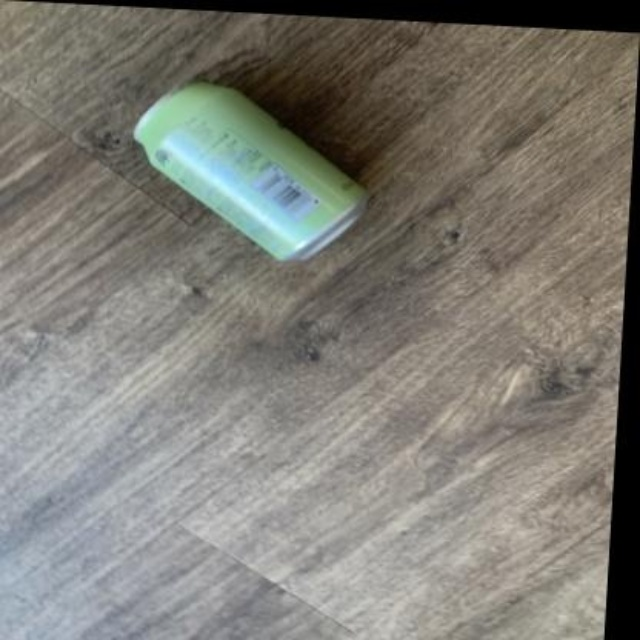trash: (134, 82, 366, 258)
